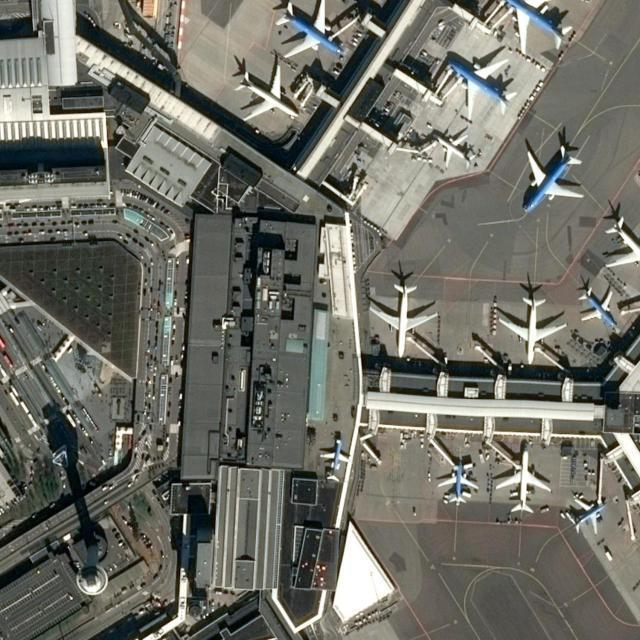Aircraft: (366, 281, 439, 359), (495, 292, 567, 368), (515, 141, 585, 213), (444, 53, 518, 117), (492, 0, 574, 55), (270, 0, 346, 58), (231, 59, 299, 121), (493, 448, 551, 516), (599, 212, 639, 280), (576, 282, 621, 333), (436, 458, 480, 506), (566, 494, 608, 535), (433, 129, 475, 169), (318, 435, 350, 481)
